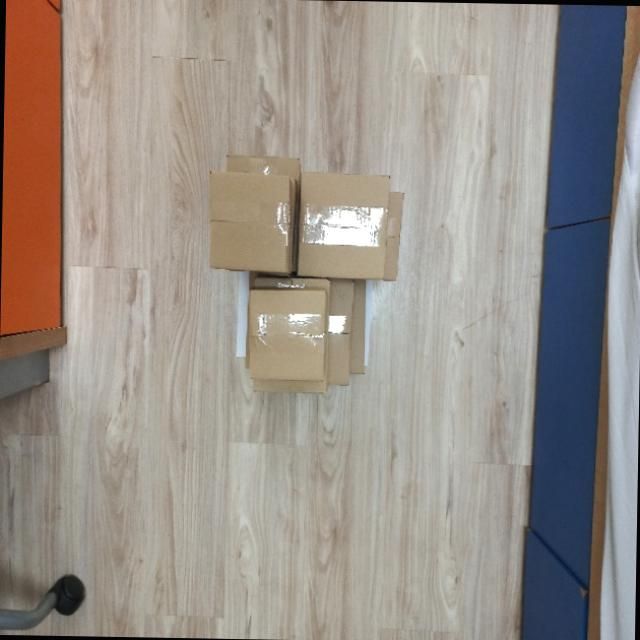box: (296, 168, 391, 284), (203, 164, 294, 276), (247, 284, 329, 381)
